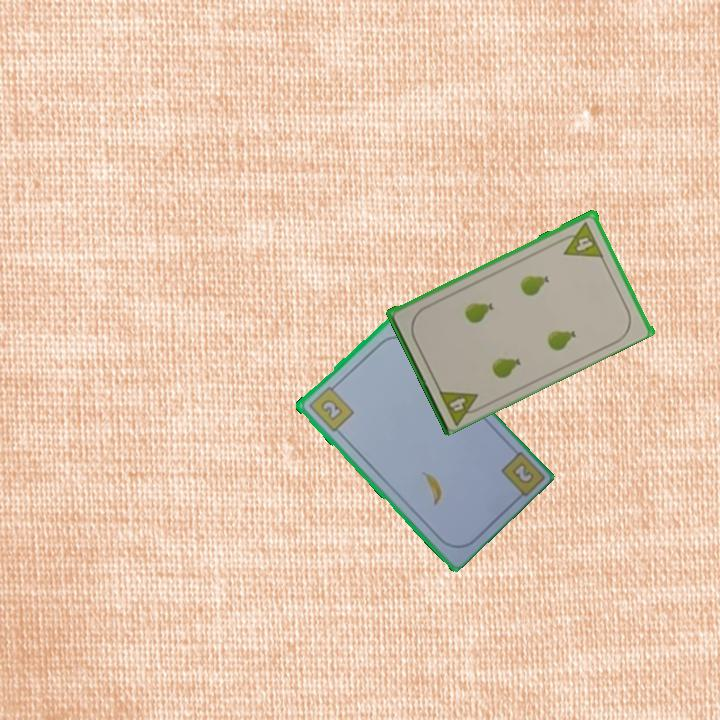2b: (305, 380, 356, 434), (510, 461, 535, 485)
4p: (435, 385, 487, 427), (555, 218, 606, 260)
